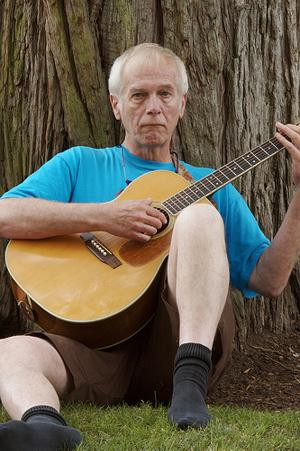person: (2, 42, 300, 451)
